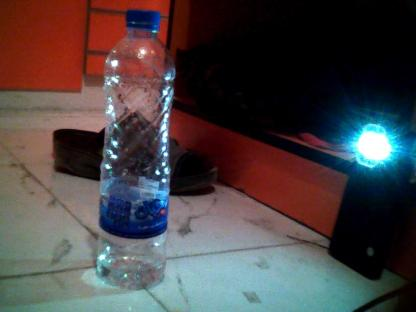Plastic Bottle: (98, 10, 176, 290)
